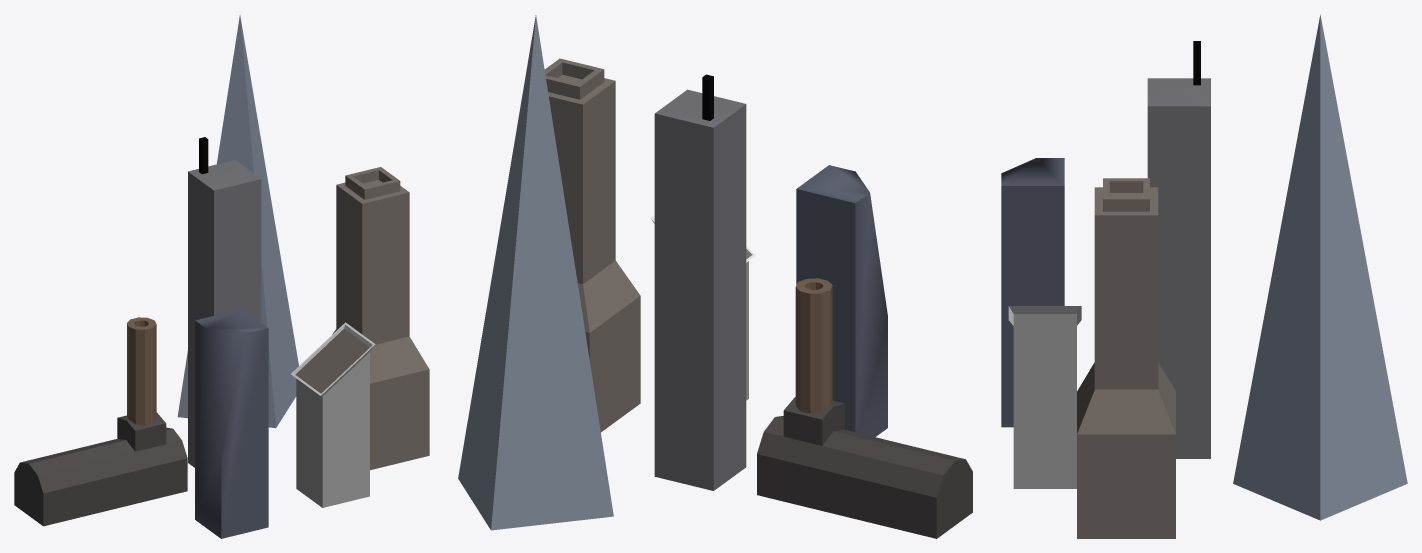
The model's file is buildings coloured.fbx.
The picture shows the model from 3 angles, left to right: view 1: azimuth 30°, elevation 25°; view 2: azimuth 150°, elevation 25°; view 3: azimuth 270°, elevation 25°; orthographic projection. The views are drawn at different scales.
Parts seen in each view (by area): view 1: pasted__pasted__pasted__pCube2, pCube2, pPipe2, pasted__pCube2, pasted__pasted__pCube2, pPyramid1; view 2: pPyramid1, pasted__pCube2, pPipe2, pasted__pasted__pasted__pCube2, pCube2; view 3: pPyramid1, pasted__pasted__pasted__pCube2, pasted__pCube2, pasted__pasted__pCube2, pCube2.
Boxes of the visible parts, box(x1,y1,x2,y2) form: pasted__pasted__pasted__pCube2: box(332, 167, 429, 470); pCube2: box(195, 309, 268, 538); pPipe2: box(14, 317, 187, 526); pasted__pCube2: box(188, 137, 261, 467); pasted__pasted__pCube2: box(291, 322, 375, 507); pPyramid1: box(177, 15, 298, 428); pPyramid1: box(458, 15, 613, 530); pasted__pCube2: box(654, 74, 746, 490); pPipe2: box(757, 278, 972, 538); pasted__pasted__pasted__pCube2: box(544, 58, 640, 432); pCube2: box(796, 165, 887, 437); pPyramid1: box(1233, 14, 1407, 520); pasted__pasted__pasted__pCube2: box(1077, 178, 1175, 538); pasted__pCube2: box(1147, 41, 1210, 458); pasted__pasted__pCube2: box(1008, 306, 1081, 488); pCube2: box(1001, 158, 1064, 427).
Size of the model in its own units: 37.37 by 38.61 by 29.97.
